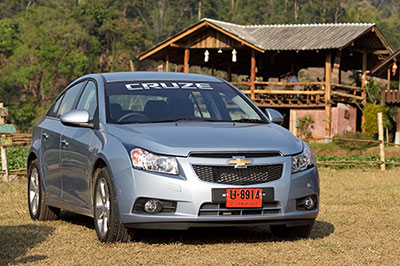sedan: (22, 72, 319, 242)
